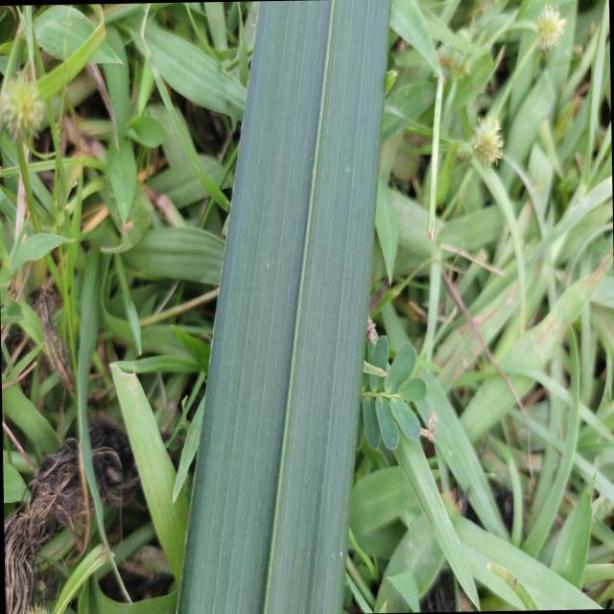Healthy: (181, 0, 395, 614)
